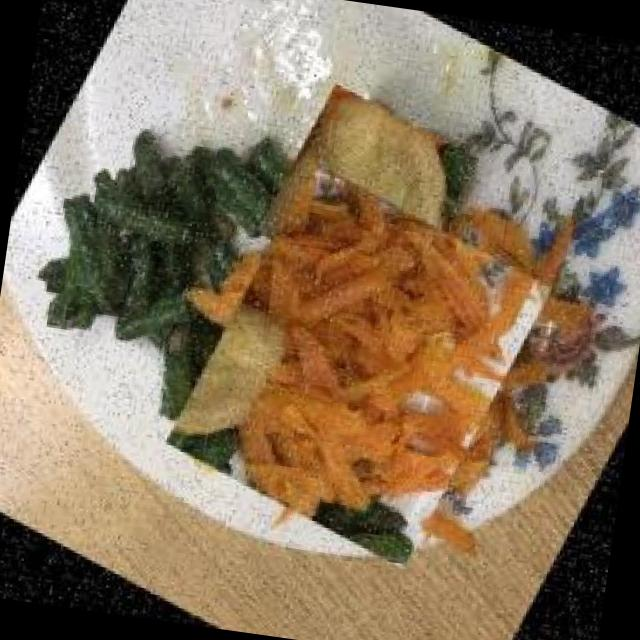carrot_eggs: (147, 154, 571, 578)
chicken_nuggets: (248, 76, 484, 316)
